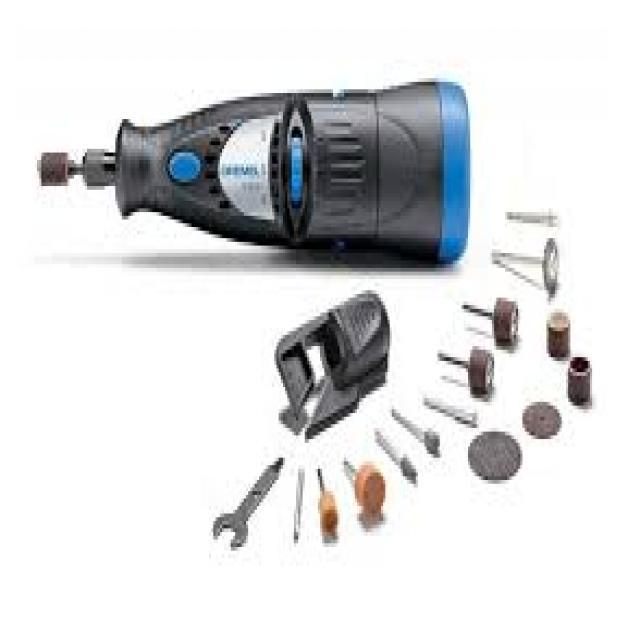wrench: (214, 458, 286, 560)
